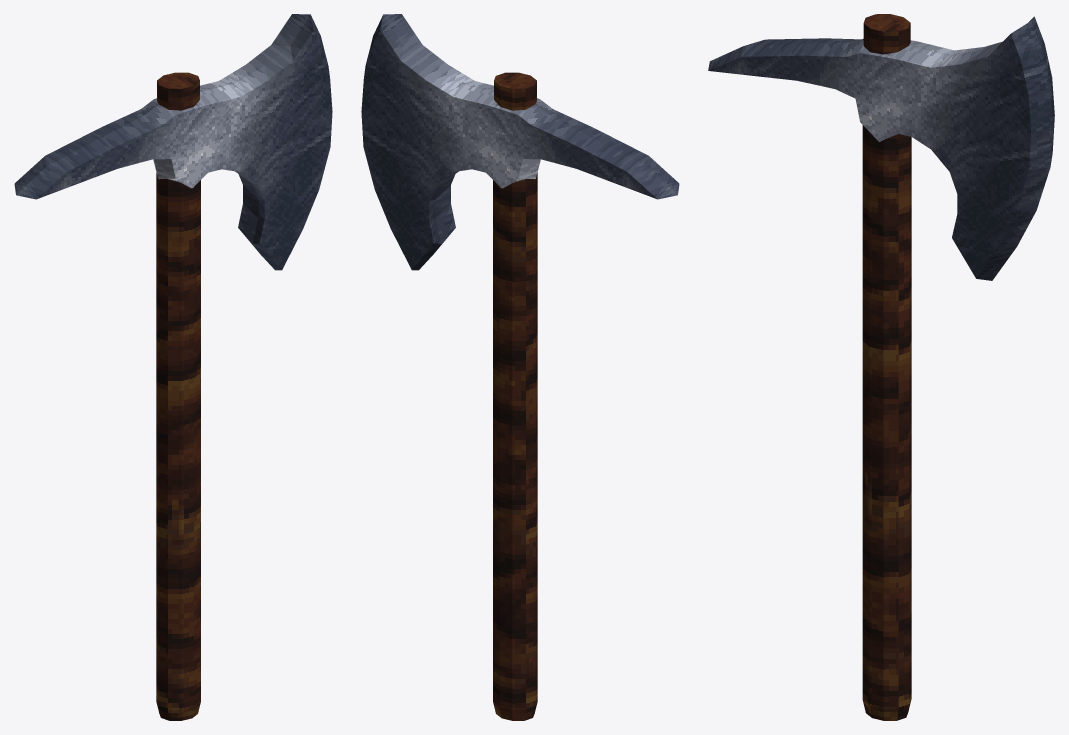
Rendered from machado_de_abordagem.glb.
3 renders of one model, left to right at view 1: azimuth 30°, elevation 25°; view 2: azimuth 150°, elevation 25°; view 3: azimuth 330°, elevation 25°, orthographic. The views are drawn at different scales.
Parts seen in each view (by area): view 1: Cabeça de machado de abordagem, Cabo reto de madeira; view 2: Cabeça de machado de abordagem, Cabo reto de madeira; view 3: Cabeça de machado de abordagem, Cabo reto de madeira.
Part boxes in pixels (left/top/right/bottom): Cabeça de machado de abordagem: left=14, top=14, right=332, bottom=270; Cabo reto de madeira: left=156, top=72, right=200, bottom=720; Cabeça de machado de abordagem: left=361, top=14, right=679, bottom=270; Cabo reto de madeira: left=493, top=72, right=537, bottom=720; Cabeça de machado de abordagem: left=708, top=16, right=1054, bottom=280; Cabo reto de madeira: left=862, top=14, right=911, bottom=720.
Bounding box in the file's own units: 0.8021 × 1.62 × 0.096.
Materials: 2 (2 with a texture image).
